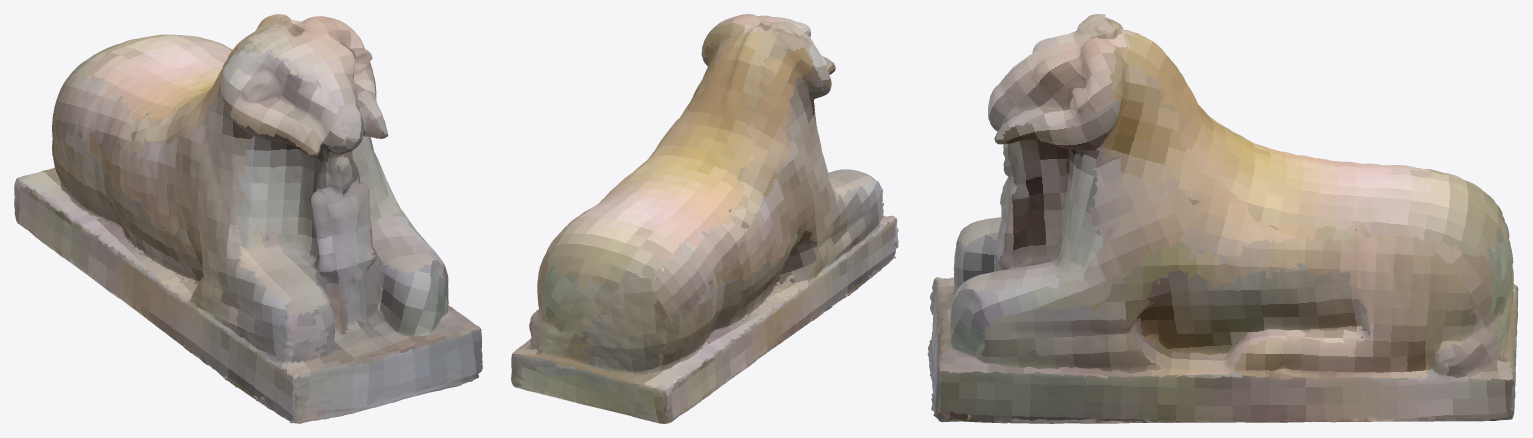
The picture shows the model from 3 angles, left to right: view 1: azimuth 30°, elevation 25°; view 2: azimuth 150°, elevation 25°; view 3: azimuth 270°, elevation 25°; orthographic projection. The views are drawn at different scales.
Parts seen in each view (by area): view 1: Object_2; view 2: Object_2; view 3: Object_2.
Boxes of the visible parts, bbox=[...] form: Object_2: bbox=[14, 14, 482, 423]; Object_2: bbox=[511, 14, 898, 423]; Object_2: bbox=[927, 14, 1518, 423].
Size of the model in its own units: 3.32 by 5.19 by 8.24.
Materials: 1 (1 with a texture image).
